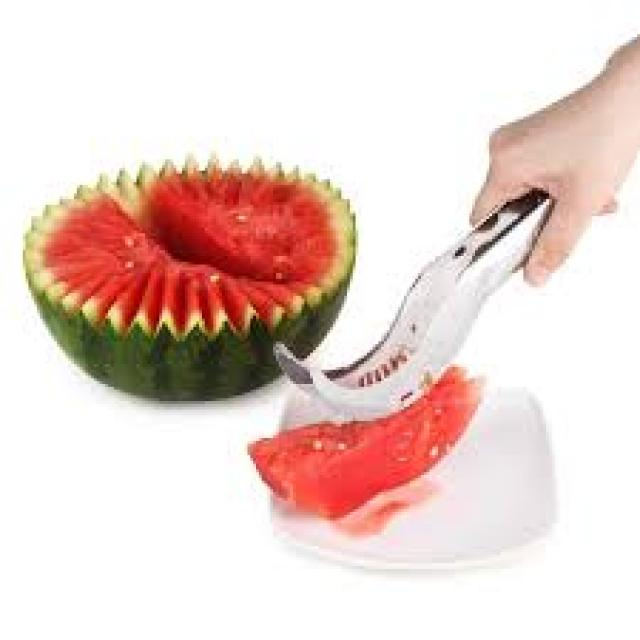watermelon: (20, 151, 355, 401), (244, 361, 483, 518)
